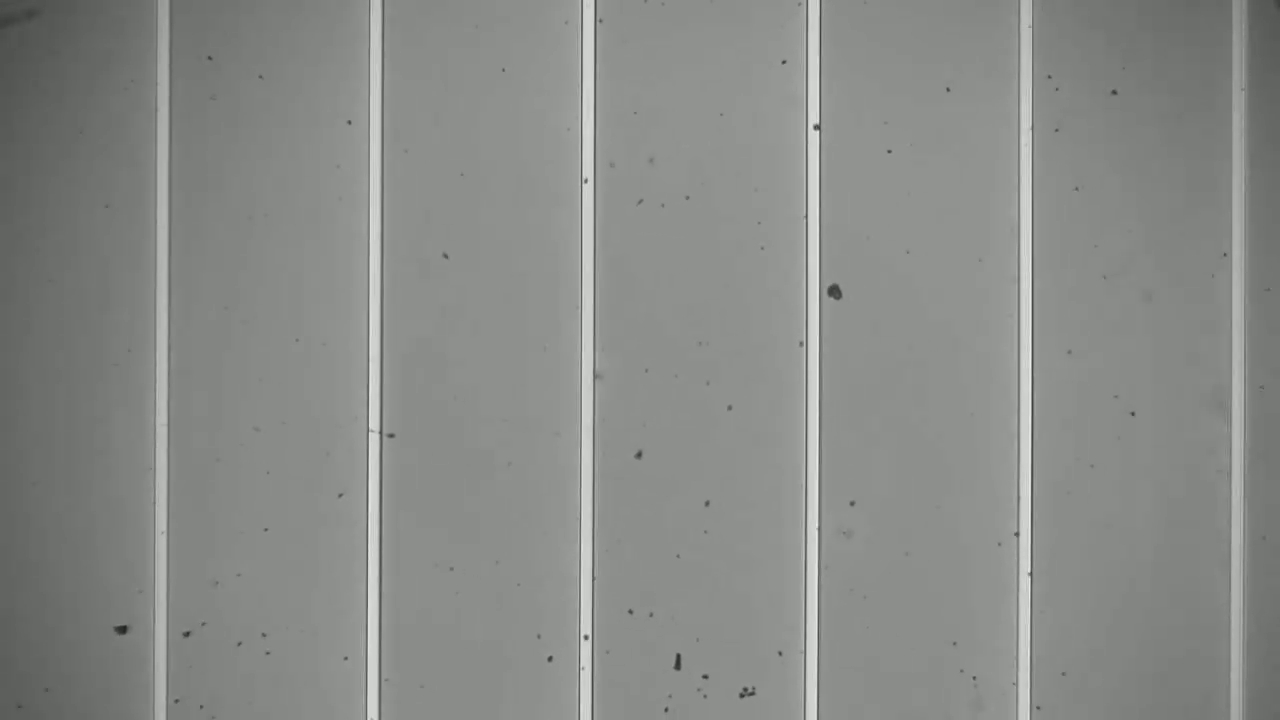stains_enbedded: (805, 117, 827, 136)
